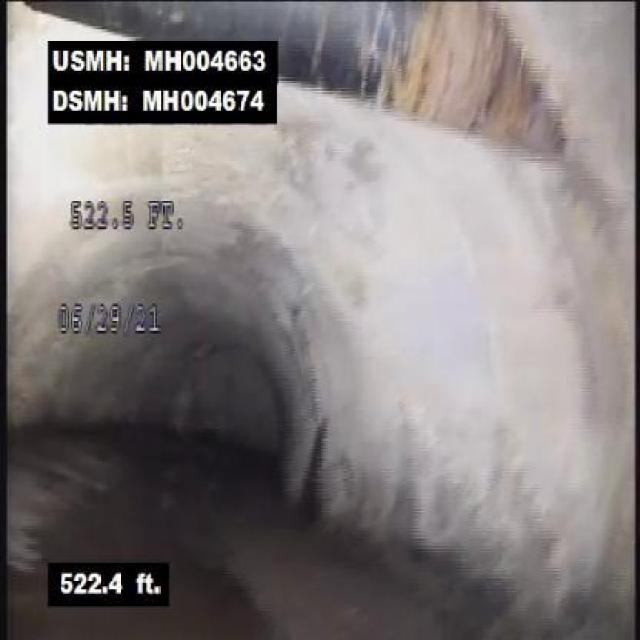Utility intrusion: (280, 2, 577, 183)
